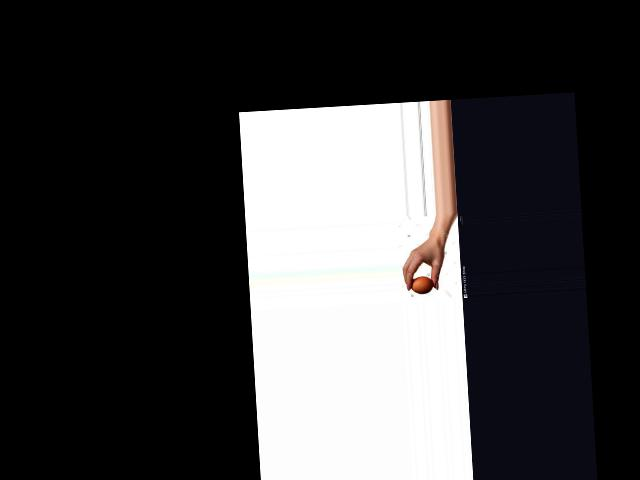egg: (411, 274, 434, 294)
